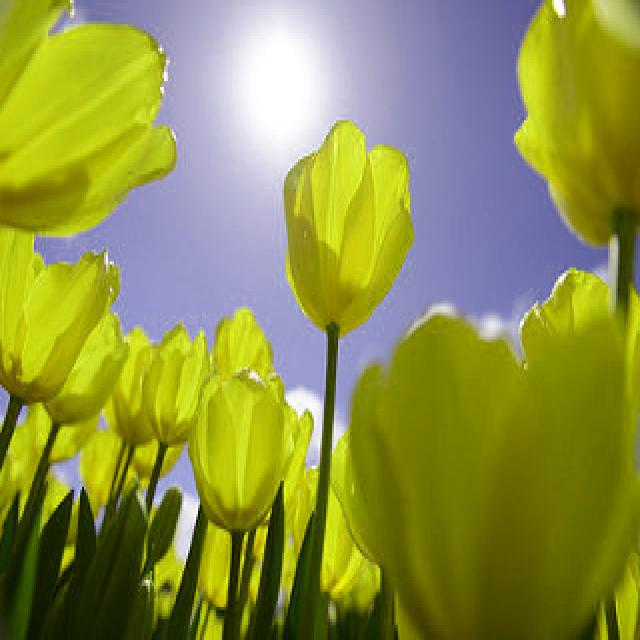Bloomed: (278, 114, 414, 340)
